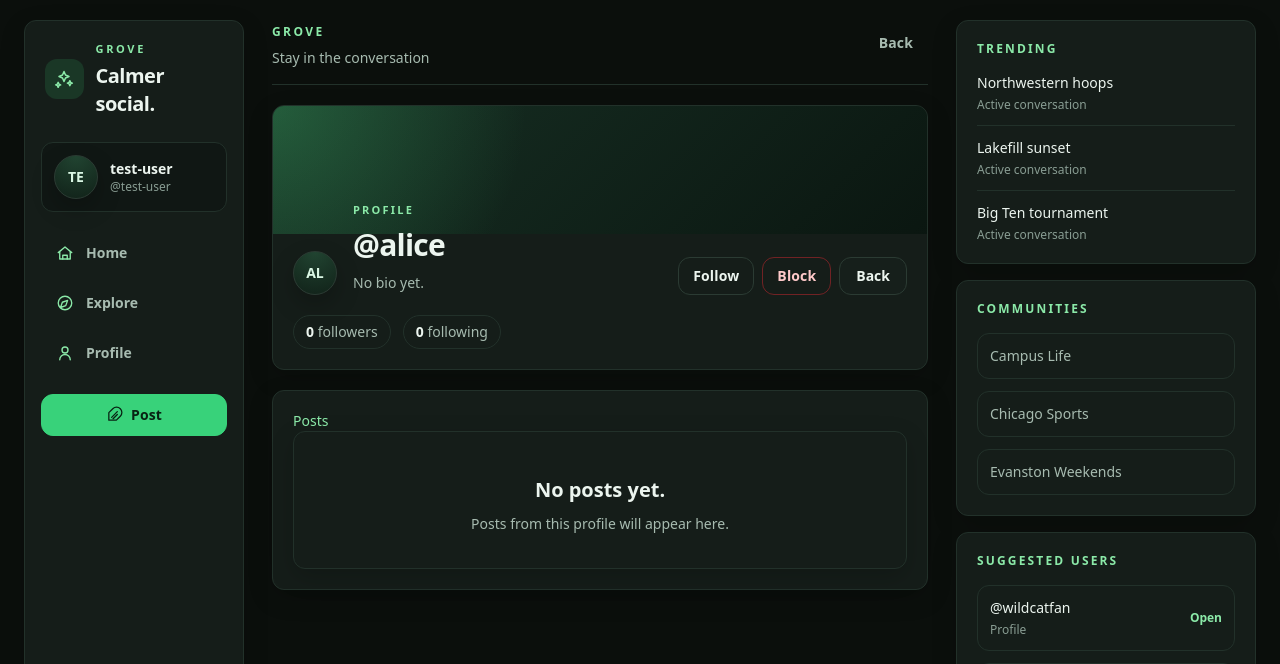
Test case: UserProfilePage › block and unblock toggle updates blocked-state UI
Step 1. Click the button "Block" → point(797, 276), box [762,256,831,294]
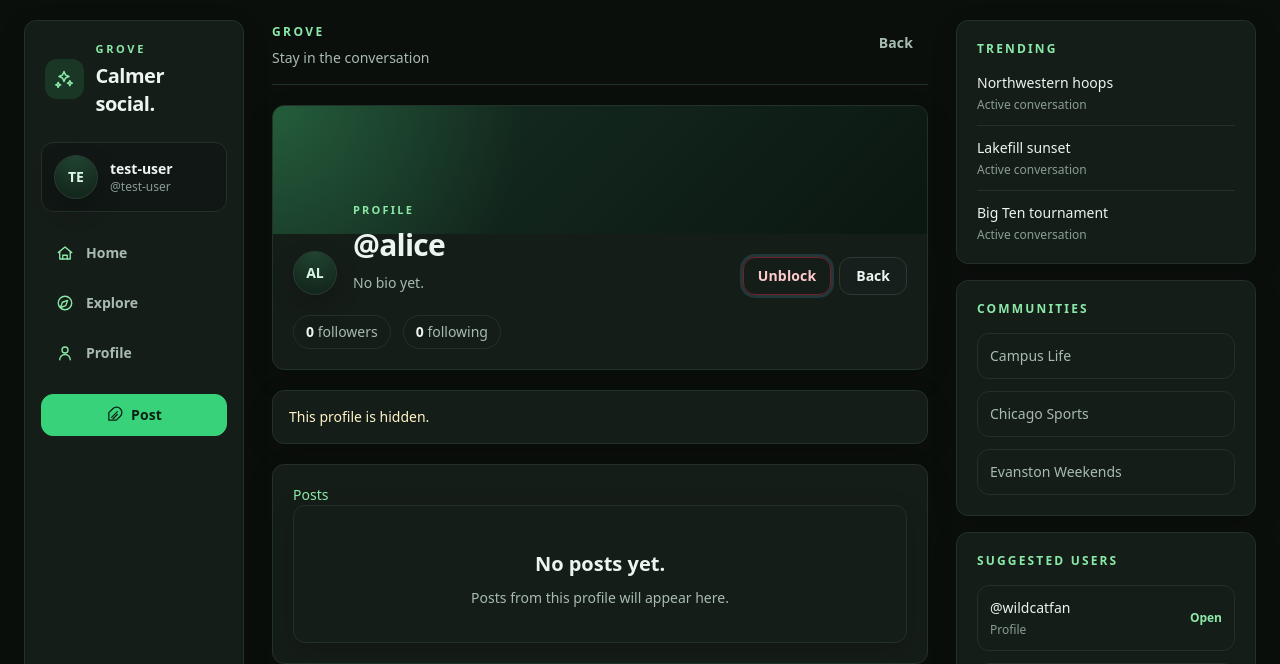
Result: the text "This profile is hidden." is shown at [272,390,928,444]
Step 2. Click the button "Unblock" → point(787, 276), box [743,256,831,294]
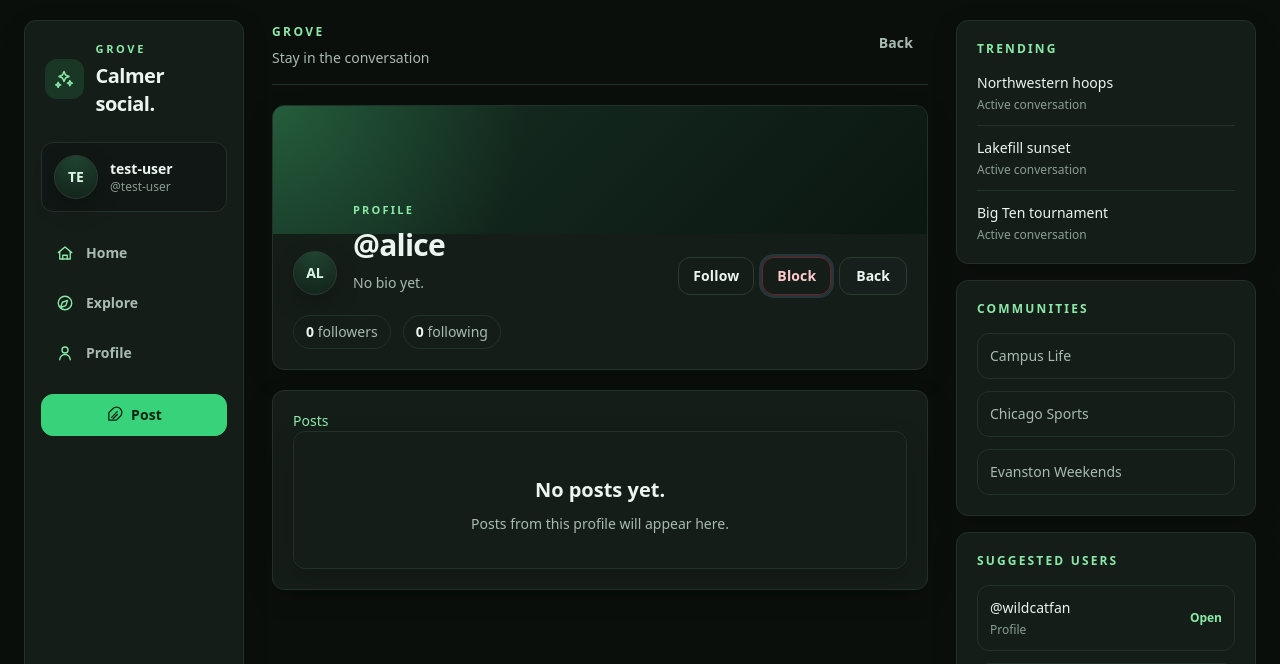
Result: the text "This profile is hidden." is gone
Result: the button "Follow" is shown at [678,256,754,294]
